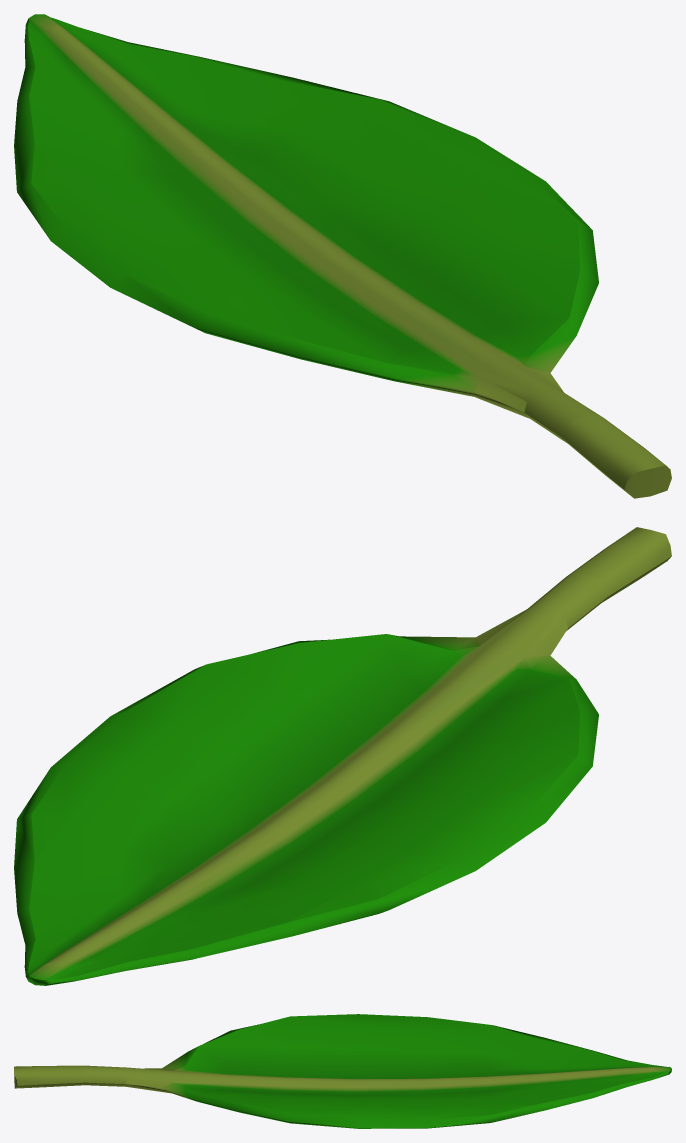
The model's file is Leaf1_1.1.fbx.
The picture shows the model from 3 angles, top to bottom: view 1: azimuth 30°, elevation 25°; view 2: azimuth 150°, elevation 25°; view 3: azimuth 270°, elevation 25°; orthographic projection. The views are drawn at different scales.
Parts seen in each view (by area): view 1: Leaf1; view 2: Leaf1; view 3: Leaf1.
Part boxes in pixels (box(x1,y1,x2,y2)): Leaf1: box(14, 14, 671, 498); Leaf1: box(14, 527, 671, 985); Leaf1: box(14, 1014, 671, 1128).
Size of the model in its own units: 543 by 78.06 by 1331.
